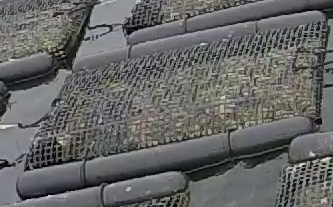bag: (15, 10, 329, 201)
